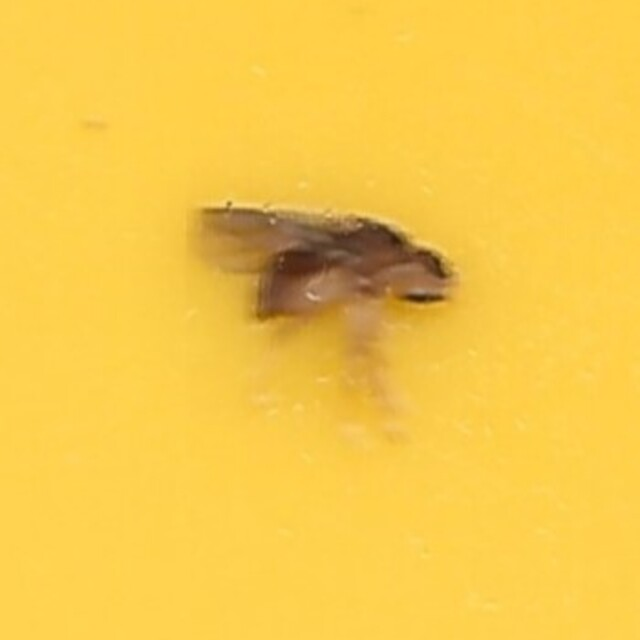Brachycera: (183, 199, 457, 441)
